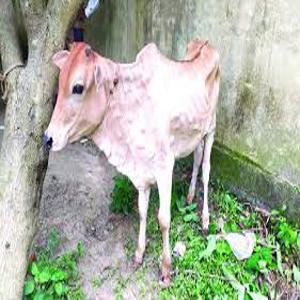lumpy skin diesease: (42, 37, 221, 287)
